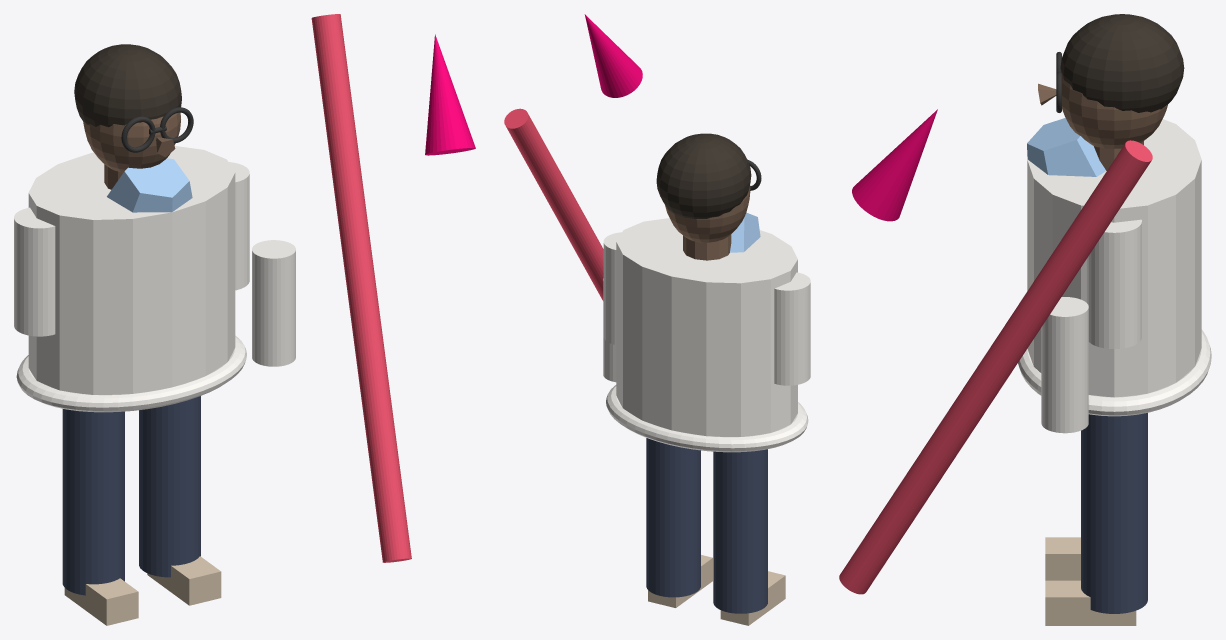
Rendered from prof_boss.glb.
3 renders of one model, left to right at view 1: azimuth 30°, elevation 25°; view 2: azimuth 150°, elevation 25°; view 3: azimuth 270°, elevation 25°, orthographic. The views are drawn at different scales.
Parts seen in each view (by area): view 1: Cylinder, Cylinder.008, Cylinder.006, Cylinder.007, Sphere.001, Cylinder.005, Cylinder.003, Torus, Cone, Cone.002, Sphere, Cube.001 (+2 smaller); view 2: Cylinder, Cylinder.006, Cylinder.007, Sphere.001, Cylinder.008, Cylinder.003, Torus, Cone.002, Sphere, Cylinder.004, Cube.001, Cylinder.001 (+3 smaller); view 3: Cylinder, Cylinder.008, Cylinder.007, Sphere.001, Cylinder.004, Cylinder.005, Cone.002, Sphere, Torus, Cone, Cube.002, Cube.001.
Part boxes in pixels (x1,y1,x2,y2): Cylinder: [28, 146, 235, 394]; Cylinder.008: [311, 14, 411, 562]; Cylinder.006: [62, 409, 124, 595]; Cylinder.007: [139, 396, 200, 577]; Sphere.001: [74, 44, 181, 127]; Cylinder.005: [252, 240, 295, 366]; Cylinder.003: [14, 207, 55, 336]; Torus: [16, 335, 246, 412]; Cone: [107, 158, 192, 212]; Cone.002: [425, 34, 475, 155]; Sphere: [83, 112, 180, 172]; Cube.001: [64, 578, 138, 625]; Cylinder: [616, 218, 797, 436]; Cylinder.006: [713, 449, 767, 613]; Cylinder.007: [646, 438, 700, 597]; Sphere.001: [656, 133, 751, 219]; Cylinder.008: [504, 108, 603, 300]; Cylinder.003: [774, 272, 810, 385]; Torus: [606, 385, 808, 452]; Cone.002: [584, 14, 642, 97]; Sphere: [665, 185, 750, 242]; Cylinder.004: [603, 232, 621, 344]; Cube.001: [720, 571, 785, 625]; Cylinder.001: [683, 234, 731, 260]; Cylinder: [1027, 119, 1201, 397]; Cylinder.008: [839, 140, 1152, 594]; Cylinder.007: [1081, 413, 1147, 613]; Sphere.001: [1060, 14, 1184, 112]; Cylinder.004: [1086, 219, 1141, 349]; Cylinder.005: [1041, 297, 1088, 433]; Cone.002: [852, 109, 937, 221]; Sphere: [1060, 71, 1167, 148]; Torus: [1018, 329, 1211, 416]; Cone: [1027, 118, 1105, 176]; Cube.002: [1045, 580, 1136, 625]; Cube.001: [1045, 537, 1080, 580].
Bounding box in the file's own units: 2.17 × 3.37 × 1.89.
